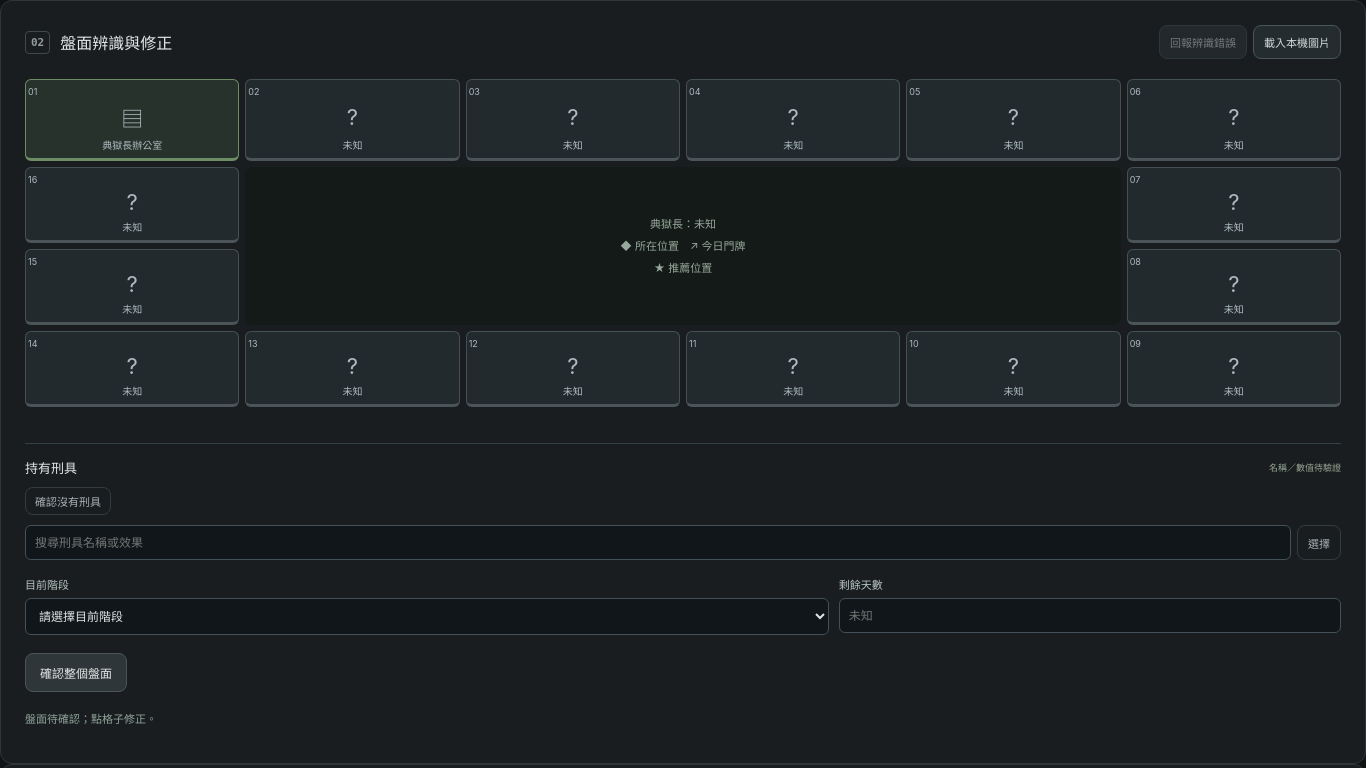
manual board editor and JSON workflow › keeps production editing while removing home-page development tools
Expected: the file field labelled "載入本機圖片" is shown, [1253,25,1341,59]
Step 1. Click the button with aria-label "格子 2 未知" → coordinates (352, 120), box [245,79,460,161]
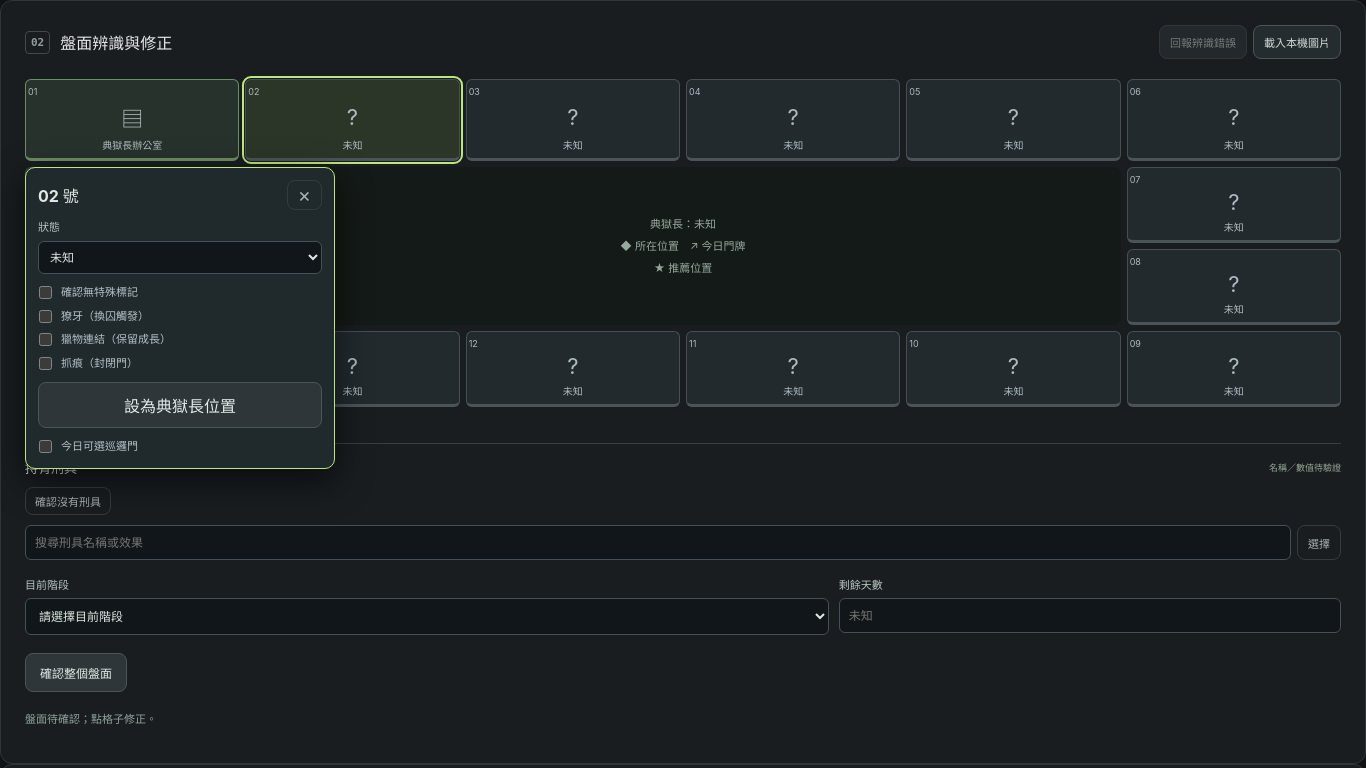
Step 2. Select "封閉" in the dropdown labelled "狀態" → coordinates (180, 258), box [38,241,322,274]
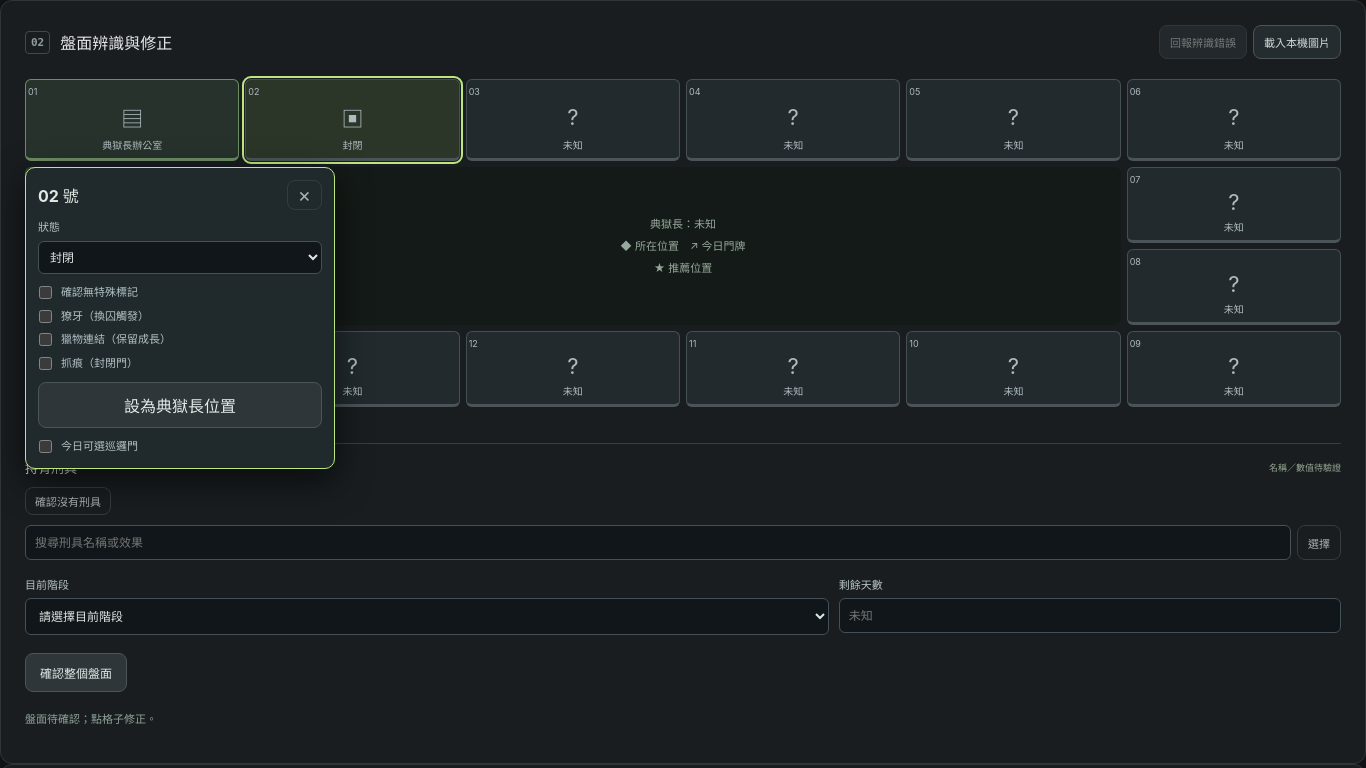
Step 3. Click the button "確認整個盤面" → coordinates (76, 672), box [25,653,127,692]
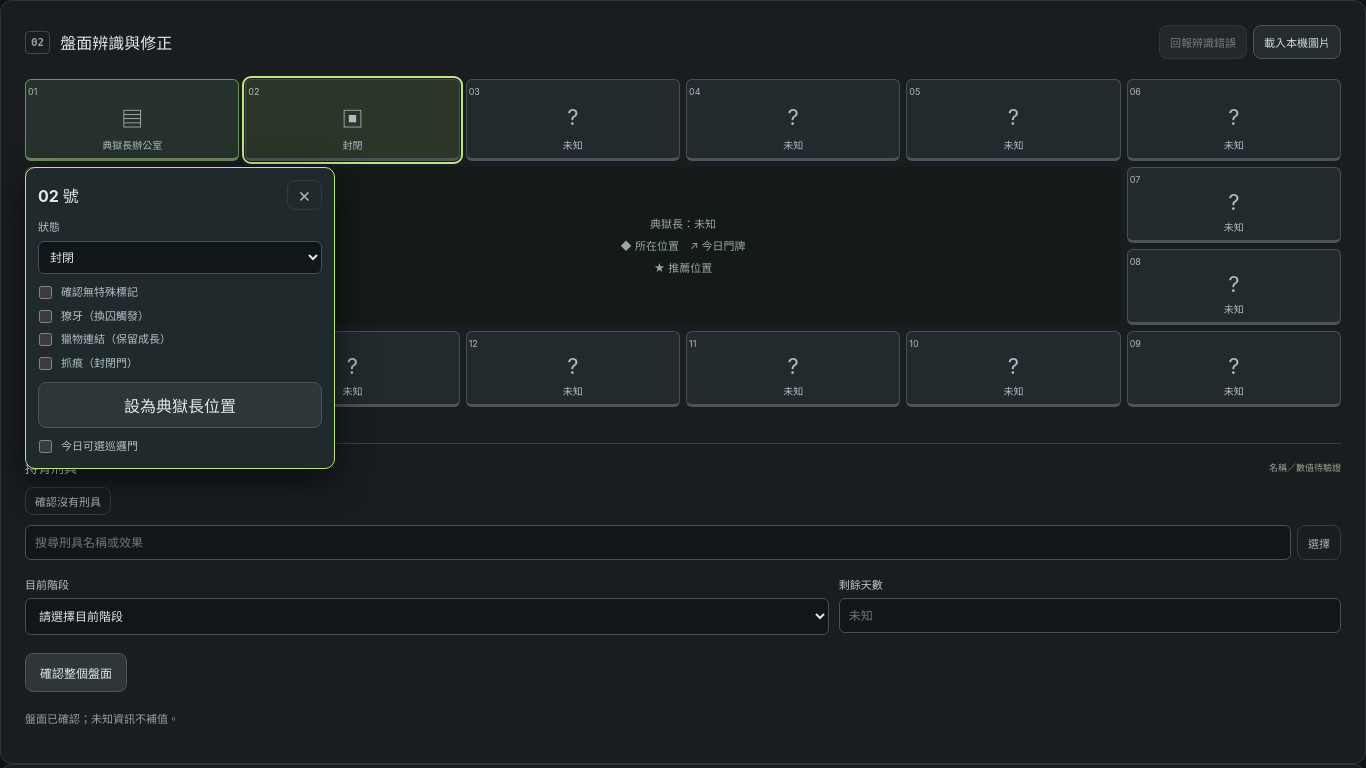
Result: the button with aria-label "格子 2 封閉" is shown at [245,79,460,161]
Result: the text "盤面已確認；未知資訊不補值。" is shown at [25,712,179,726]
